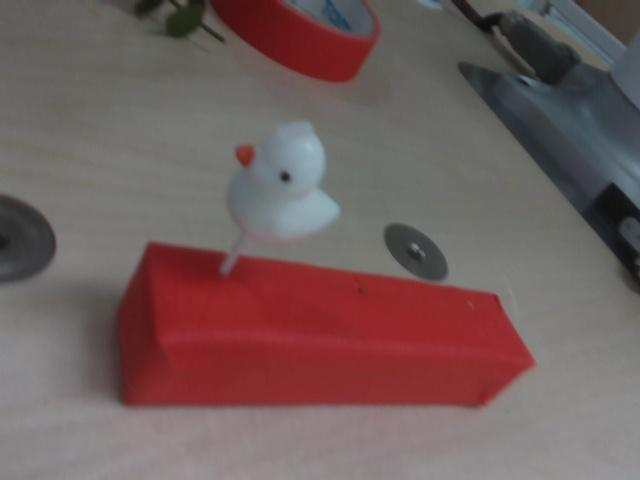w_duck: (201, 115, 357, 284)
